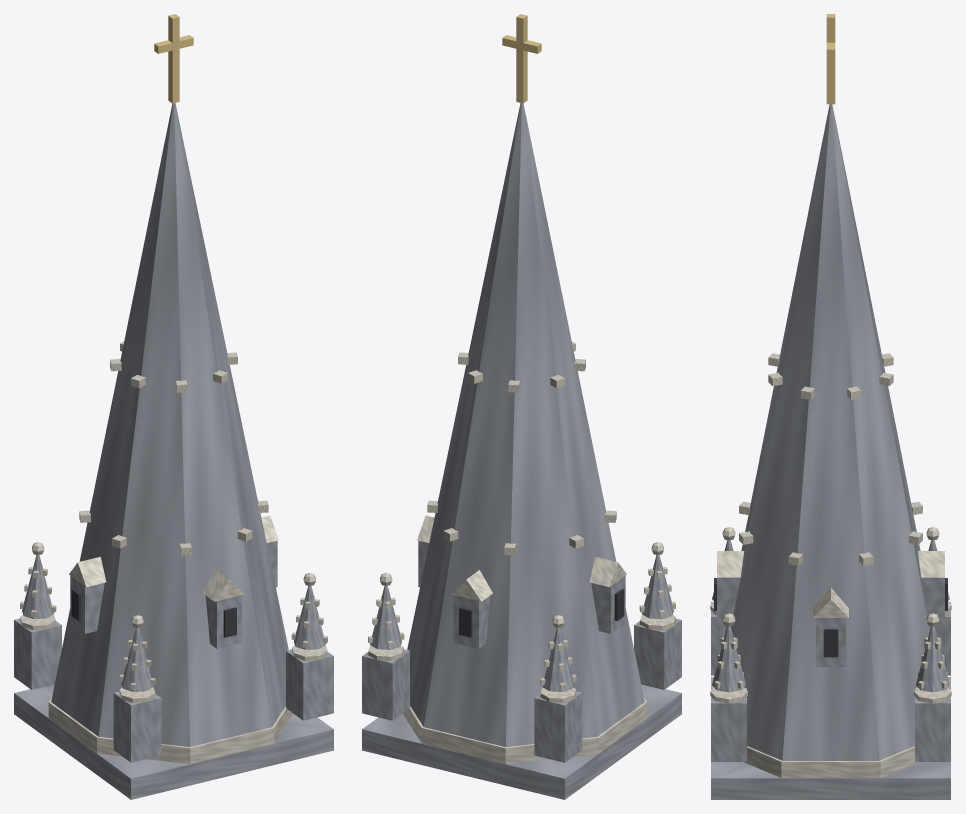
The picture shows the model from 3 angles, left to right: view 1: azimuth 30°, elevation 25°; view 2: azimuth 150°, elevation 25°; view 3: azimuth 270°, elevation 25°; orthographic projection. The views are drawn at different scales.
Parts seen in each view (by area): view 1: spire; view 2: spire; view 3: spire.
Boxes of the visible parts, box(x1,y1,x2,y2) form: spire: box(14, 14, 333, 799); spire: box(362, 14, 681, 799); spire: box(710, 14, 951, 799).
Bounding box in the file's own units: 4.03 × 13.5 × 4.03.
Materials: 4 (2 with a texture image).
